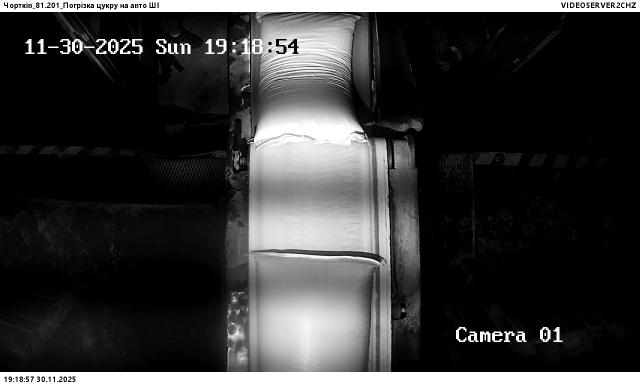bag: (255, 12, 369, 150), (251, 252, 381, 373)
